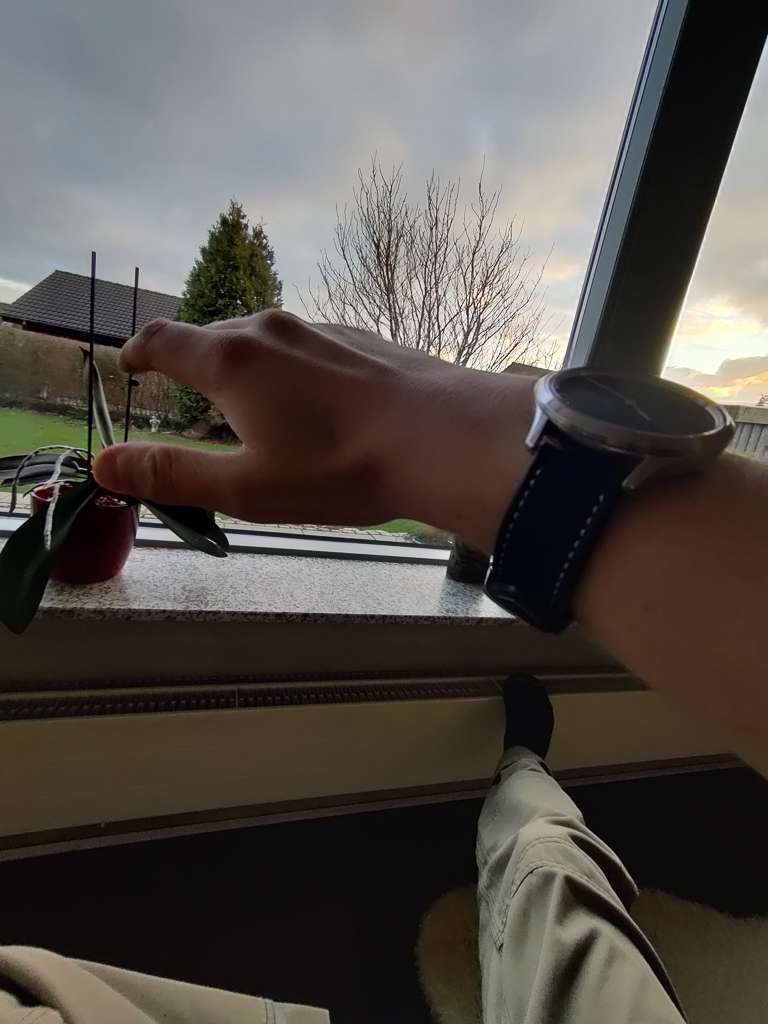Eagle: (146, 413, 162, 436)
Humanoid: (0, 291, 768, 1024)
